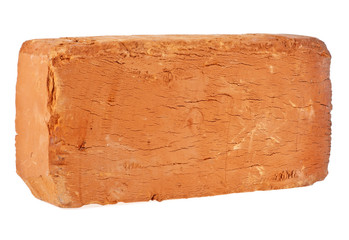brick: (25, 40, 327, 179)
